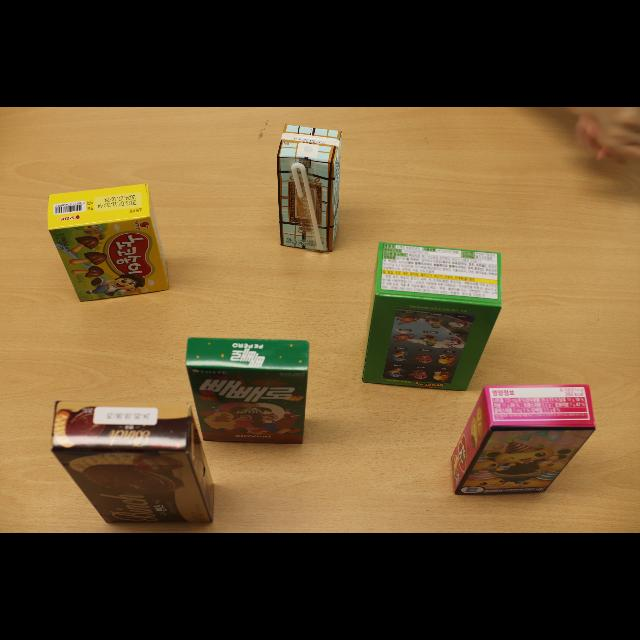box: (363, 242, 502, 391), (51, 402, 213, 524), (452, 385, 596, 496), (47, 183, 167, 301), (186, 338, 309, 444), (277, 124, 342, 251)
